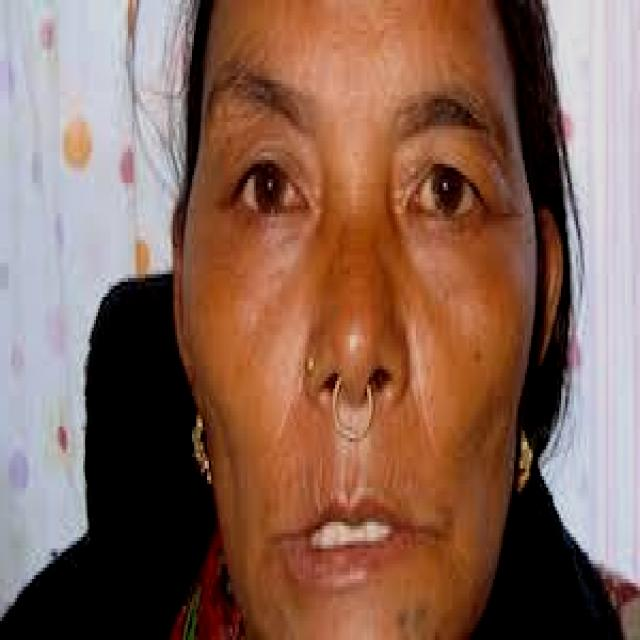normal_face: (188, 23, 501, 640)
